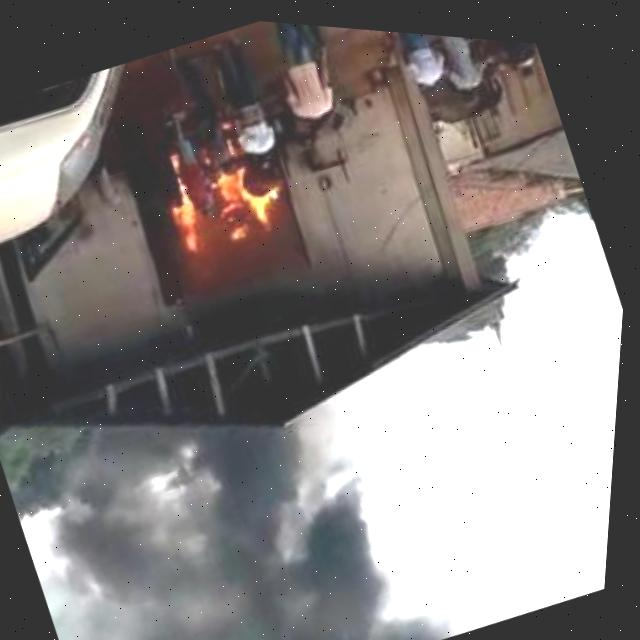Smoke: (140, 146, 220, 266), (208, 148, 303, 249)
